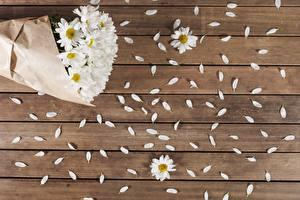chamomile: (83, 12, 105, 40), (61, 48, 90, 68), (176, 28, 199, 53), (59, 23, 79, 46), (152, 155, 169, 182), (74, 70, 90, 87)
